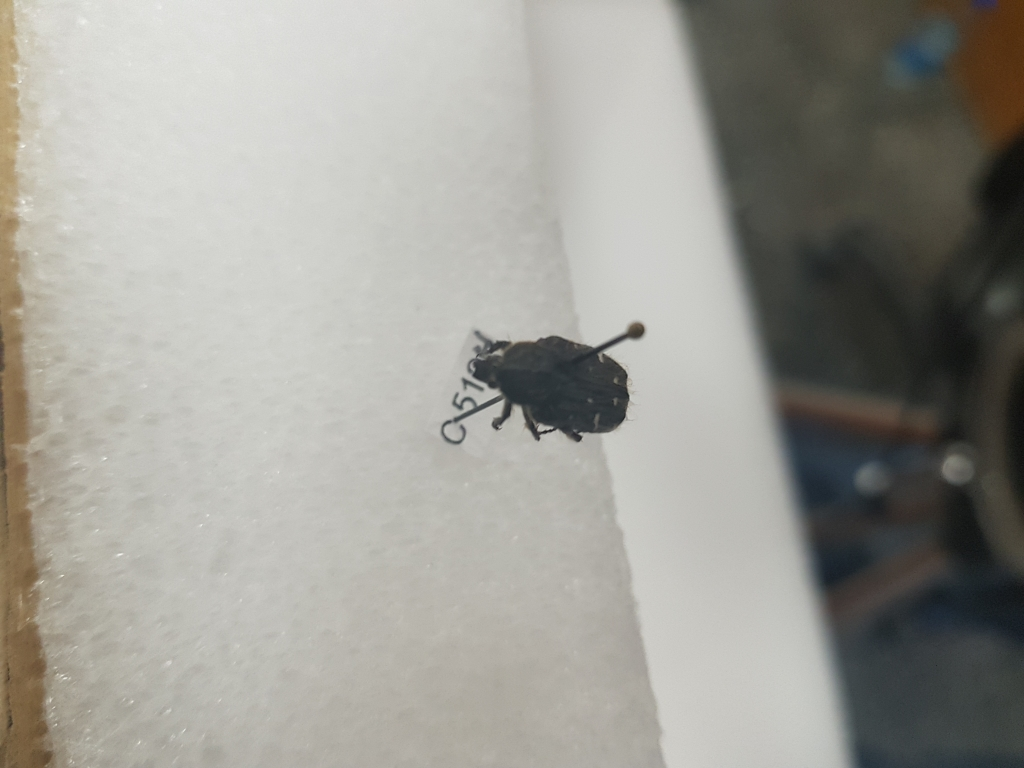Tropinota_senicula: (460, 334, 669, 441)
